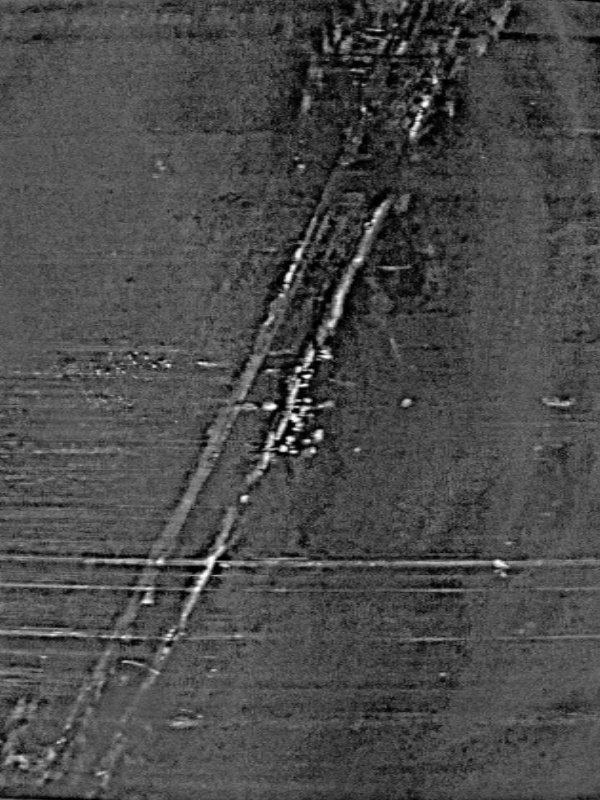splice_vulcanized: (2, 1, 488, 800)
